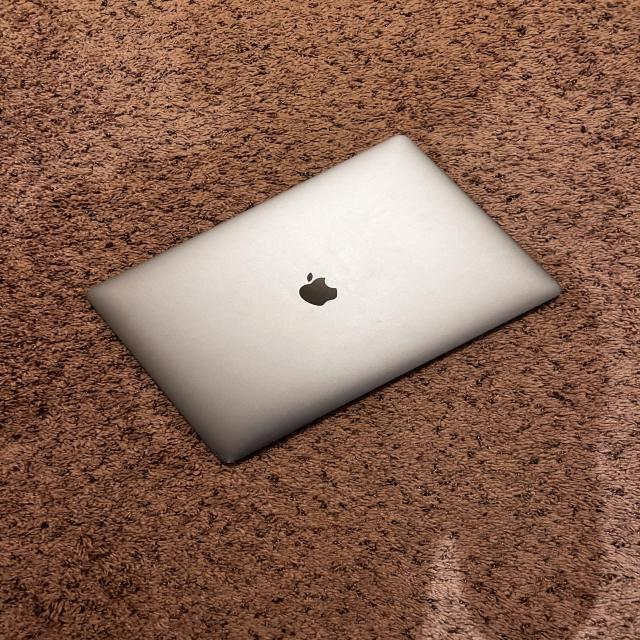laptop: (84, 132, 562, 465)
